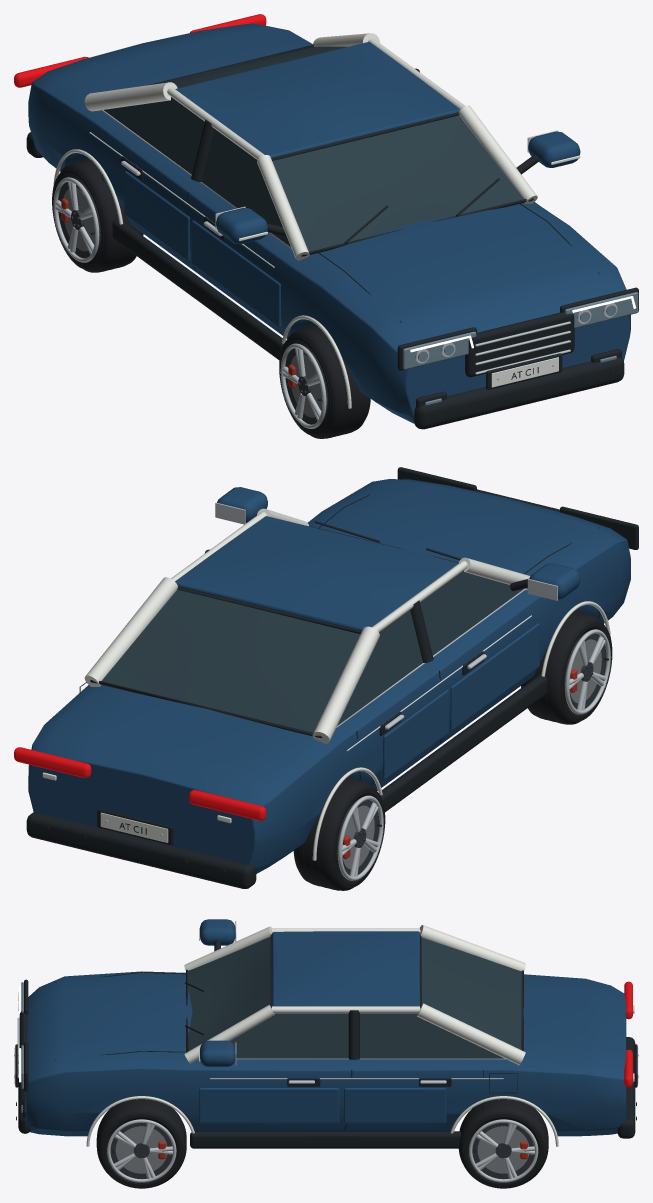
Rendered from sedan.glb.
3 views of the same model, one above another, from view 1: azimuth 30°, elevation 25°; view 2: azimuth 150°, elevation 25°; view 3: azimuth 270°, elevation 25° (orthographic). The views are drawn at different scales.
Parts seen in each view (by area): view 1: Sedan continuous sculpted body.005, Sedan curved laminated windscreen.005, Sedan gently crowned roof.005, Sedan fitted side glazing.010, Sedan front lower valance.005, Sedan rocker sill.010, Sedan pressed door skin.022, Sedan pneumatic tyre.022, Sedan front radiator grille.005, Sedan pneumatic tyre.021, Sedan pressed door skin.020, Sedan structural A pillar.010 (+20 smaller); view 2: Sedan continuous sculpted body.005, Sedan curved rear screen.005, Sedan gently crowned roof.005, Sedan fitted side glazing.010, Sedan rear bumper.005, Sedan rocker sill.010, Sedan pressed door skin.022, Sedan pneumatic tyre.021, Sedan pneumatic tyre.022, Sedan pressed door skin.020, Sedan structural rear pillar.011, Sedan structural rear pillar.010 (+18 smaller); view 3: Sedan continuous sculpted body.005, Sedan gently crowned roof.005, Sedan fitted side glazing.011, Sedan curved rear screen.005, Sedan curved laminated windscreen.005, Sedan pressed door skin.023, Sedan rocker sill.011, Sedan pressed door skin.021, Sedan pneumatic tyre.023, Sedan pneumatic tyre.020, Sedan structural rear pillar.010, Sedan ventilated brake disc.020 (+19 smaller).
Part boxes in pixels (x1,y1,x2,y2): Sedan continuous sculpted body.005: [28, 23, 630, 423]; Sedan curved laminated windscreen.005: [272, 115, 523, 251]; Sedan gently crowned roof.005: [175, 42, 459, 157]; Sedan fitted side glazing.010: [104, 97, 290, 246]; Sedan front lower valance.005: [413, 357, 624, 429]; Sedan rocker sill.010: [112, 219, 283, 360]; Sedan pressed door skin.022: [191, 220, 281, 327]; Sedan pneumatic tyre.022: [280, 325, 370, 438]; Sedan front radiator grille.005: [465, 312, 574, 377]; Sedan pneumatic tyre.021: [53, 159, 143, 272]; Sedan pressed door skin.020: [124, 171, 190, 260]; Sedan structural A pillar.010: [257, 155, 309, 260]; Sedan continuous sculpted body.005: [28, 479, 630, 873]; Sedan curved rear screen.005: [101, 589, 360, 732]; Sedan gently crowned roof.005: [175, 516, 458, 631]; Sedan fitted side glazing.010: [337, 570, 523, 725]; Sedan rear bumper.005: [26, 812, 256, 888]; Sedan rocker sill.010: [380, 675, 547, 812]; Sedan pressed door skin.022: [450, 623, 539, 730]; Sedan pneumatic tyre.021: [293, 777, 384, 890]; Sedan pneumatic tyre.022: [521, 611, 611, 724]; Sedan pressed door skin.020: [383, 689, 448, 779]; Sedan structural rear pillar.011: [312, 626, 379, 743]; Sedan structural rear pillar.010: [84, 577, 177, 686]; Sedan continuous sculpted body.005: [26, 971, 626, 1136]; Sedan gently crowned roof.005: [272, 931, 419, 1006]; Sedan fitted side glazing.011: [230, 1013, 504, 1058]; Sedan curved rear screen.005: [421, 937, 521, 1049]; Sedan curved laminated windscreen.005: [188, 936, 270, 1051]; Sedan pressed door skin.023: [199, 1088, 339, 1123]; Sedan rocker sill.011: [190, 1131, 461, 1148]; Sedan pressed door skin.021: [344, 1088, 446, 1123]; Sedan pneumatic tyre.023: [97, 1099, 186, 1188]; Sedan pneumatic tyre.020: [458, 1099, 548, 1188]; Sedan structural rear pillar.010: [417, 1003, 525, 1065]; Sedan ventilated brake disc.020: [115, 1126, 167, 1173].
Size of the model in its own units: 2.54 by 1.51 by 4.94.
